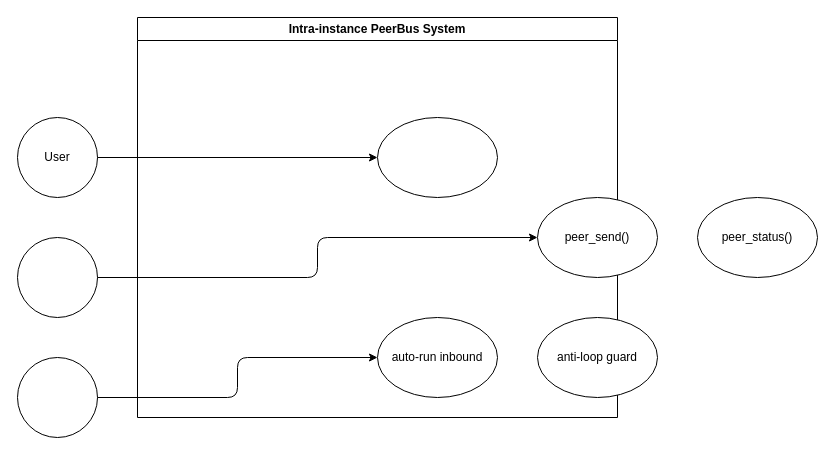
The diagram is 835 pixels wide and 455 high, and some of its shapes have lost their labels. Here are the shapes that lost their labels. From the top down, the centre of each, then its label:
At point 437,157: "peer_list()".
At point 57,277: "Tab A Agent".
At point 57,397: "Tab B Agent".
